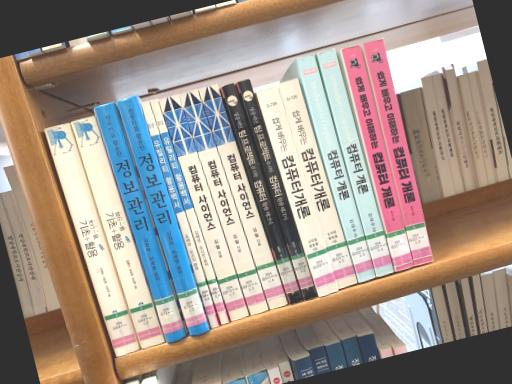book-spine: (43, 123, 139, 357), (116, 95, 209, 336), (94, 102, 186, 342), (71, 115, 165, 349), (158, 93, 249, 321), (179, 89, 269, 316), (198, 83, 288, 310), (296, 53, 376, 283), (221, 82, 303, 305), (149, 98, 229, 325), (140, 101, 219, 329), (237, 78, 318, 300), (316, 49, 394, 276), (255, 85, 338, 297), (277, 78, 358, 288), (341, 44, 414, 271), (363, 38, 433, 265)
